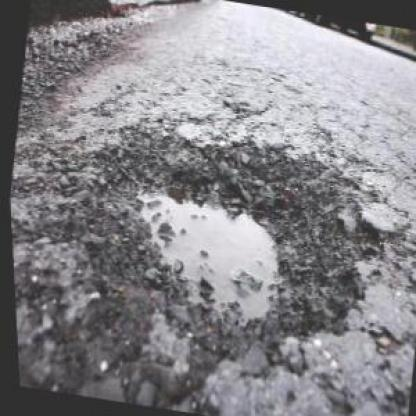pothole: (58, 111, 390, 370)
